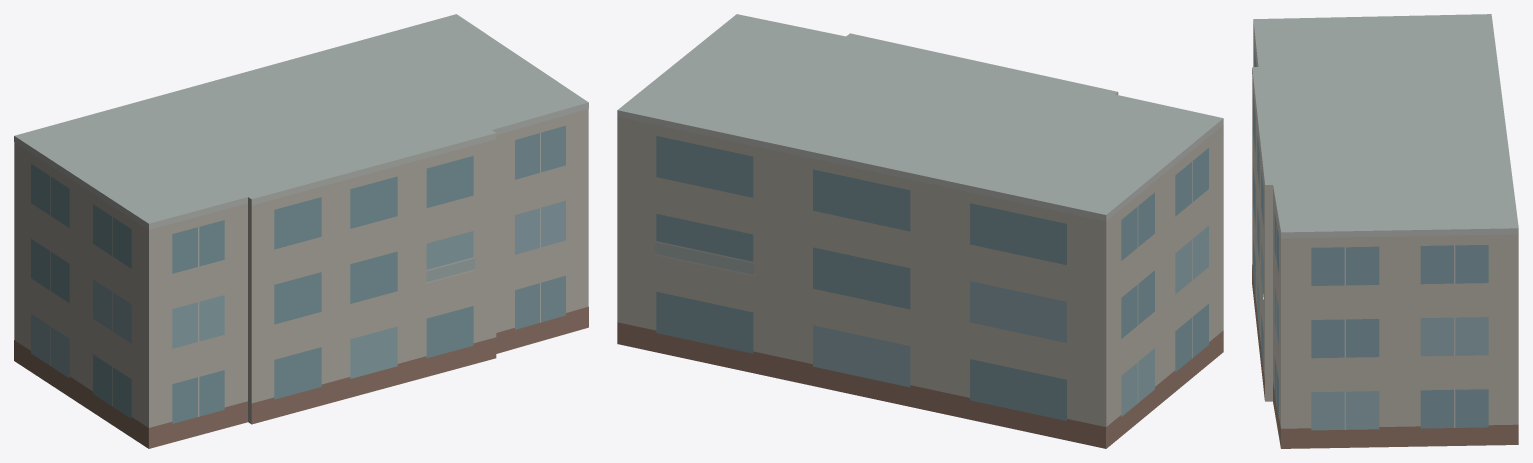
File: survey-upis-32904315.glb
The picture shows the model from 3 angles, left to right: view 1: azimuth 30°, elevation 25°; view 2: azimuth 150°, elevation 25°; view 3: azimuth 270°, elevation 25°; orthographic projection. The views are drawn at different scales.
Parts seen in each view (by area): view 1: survey-upis-32904315.tmp; view 2: survey-upis-32904315.tmp; view 3: survey-upis-32904315.tmp.
Part boxes in pixels (x1,y1,x2,y2): survey-upis-32904315.tmp: (14, 14, 588, 448); survey-upis-32904315.tmp: (617, 14, 1223, 448); survey-upis-32904315.tmp: (1252, 14, 1518, 448).
Size of the model in its own units: 19.04 by 8.8 by 9.83.
